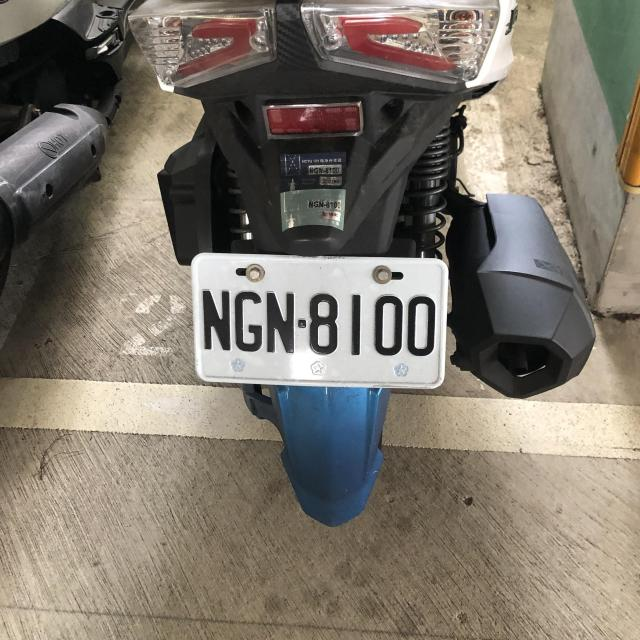W: (187, 249, 449, 393)
